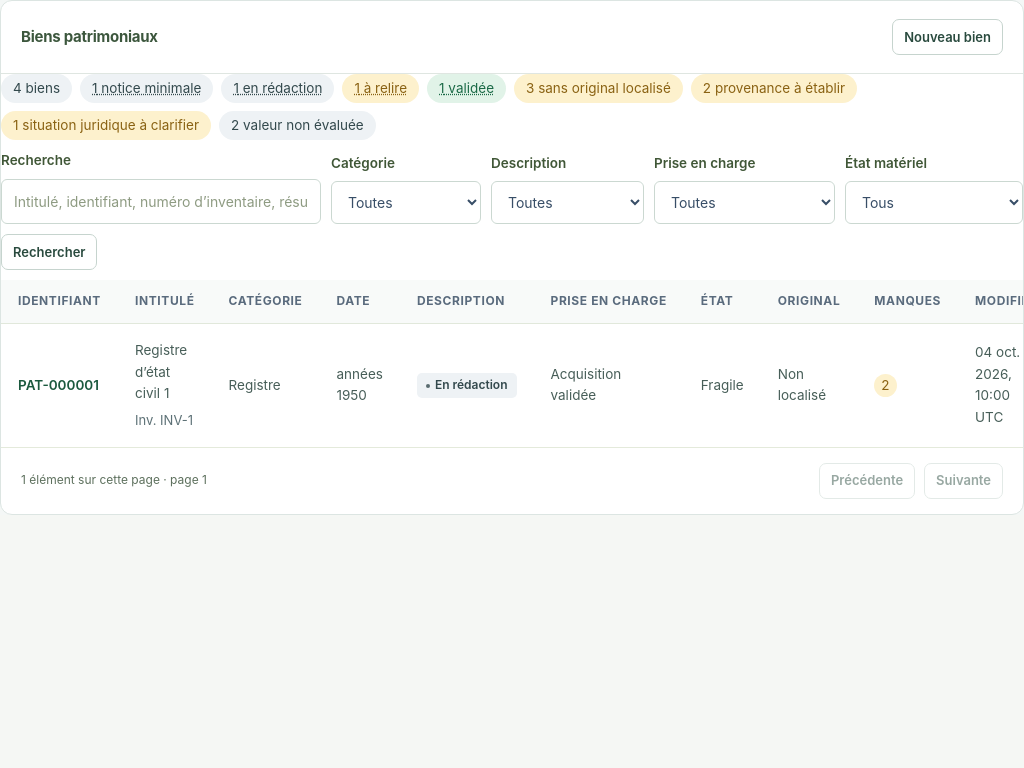
Scenario: rien à enregistrer quand rien n’a changé
Click the button "PAT-000001" at (58, 385), box x1=18 y1=374 x2=99 y2=396
(page scrolled)
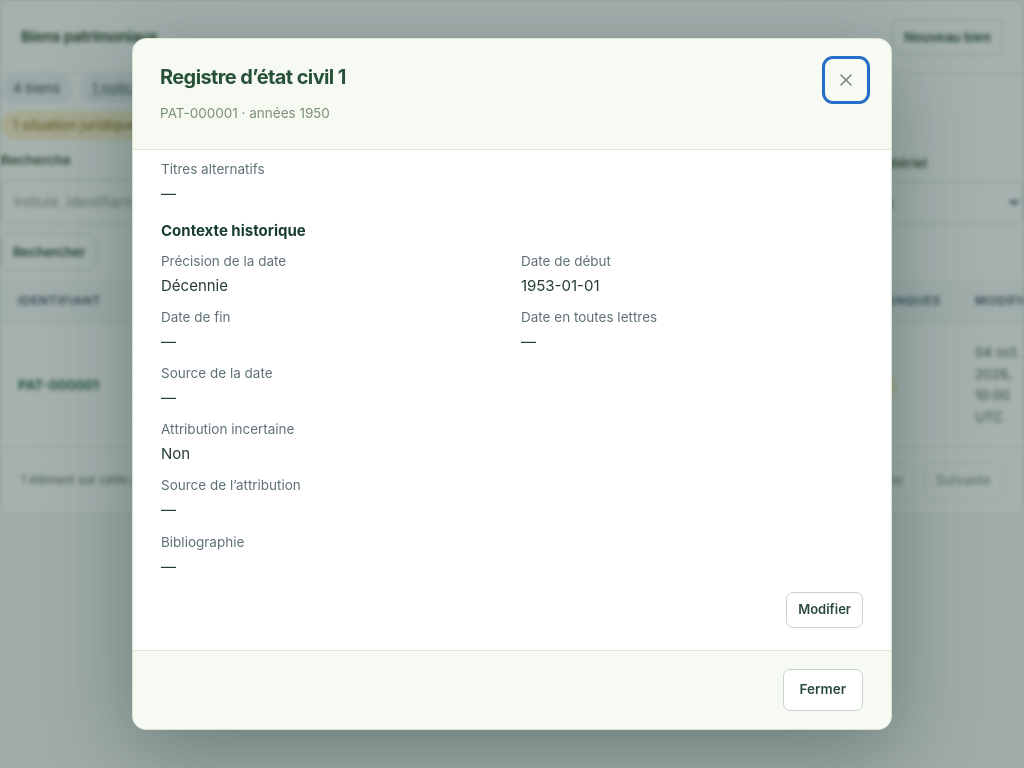
Click the button "Modifier" at (825, 610), box x1=786 y1=592 x2=863 y2=628
(page scrolled)
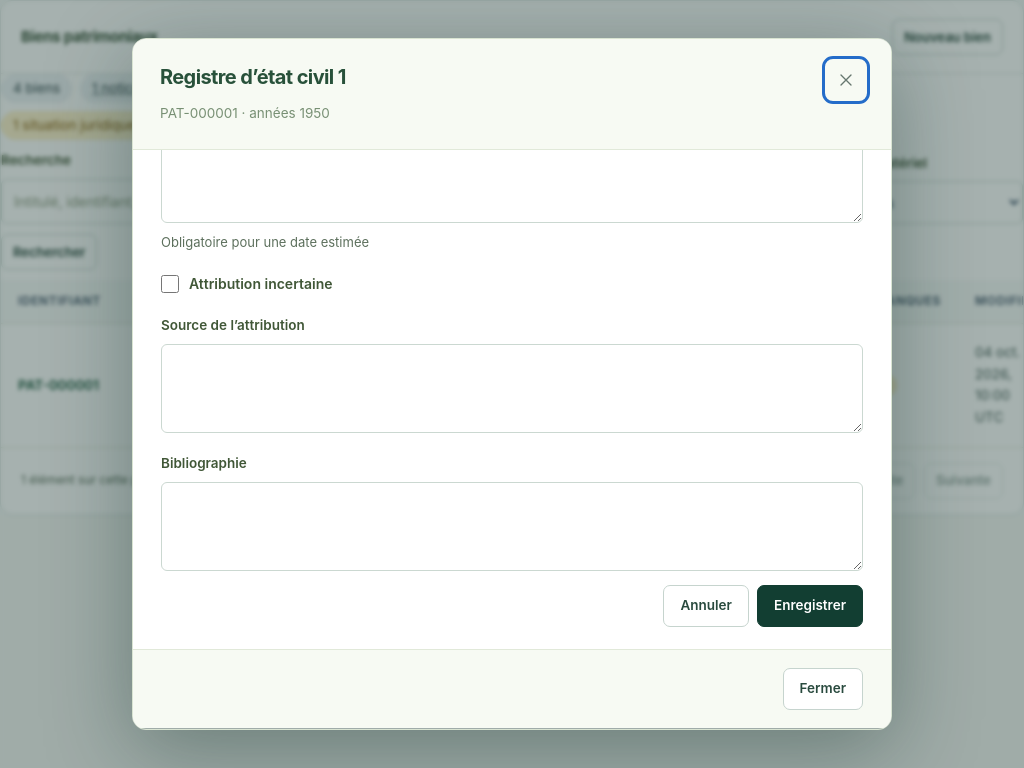
Click the button "Enregistrer" at (810, 606), box x1=757 y1=585 x2=863 y2=627
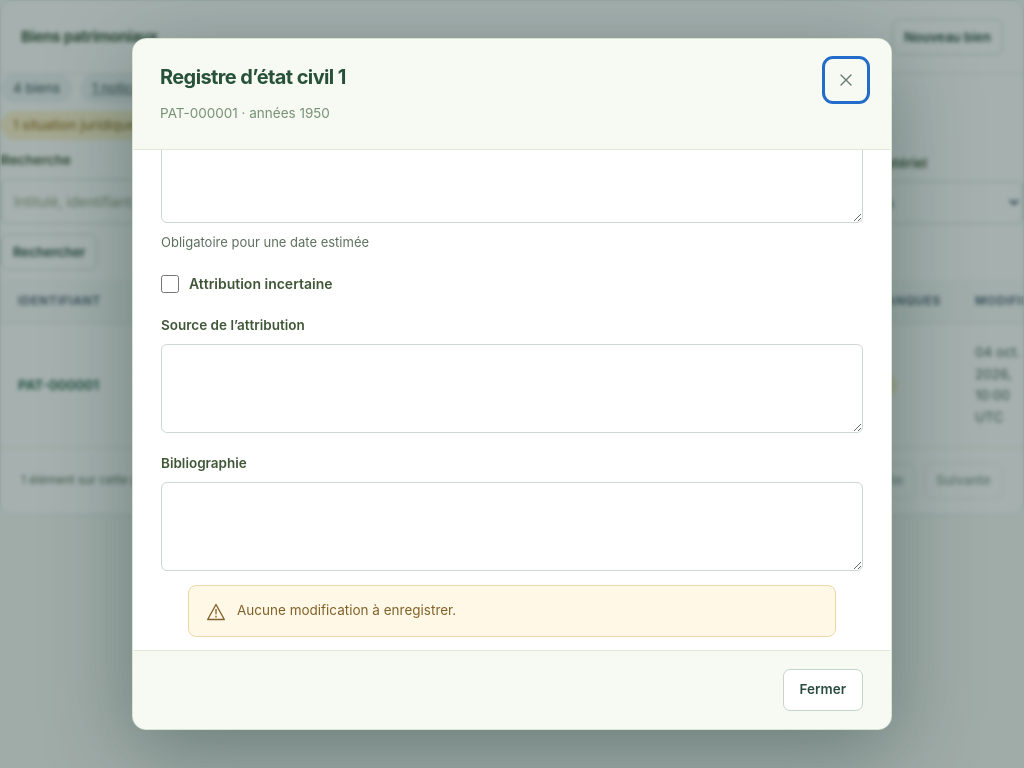
Result: the text "Aucune modification à enregistrer." is shown at x1=237 y1=600 x2=456 y2=622
